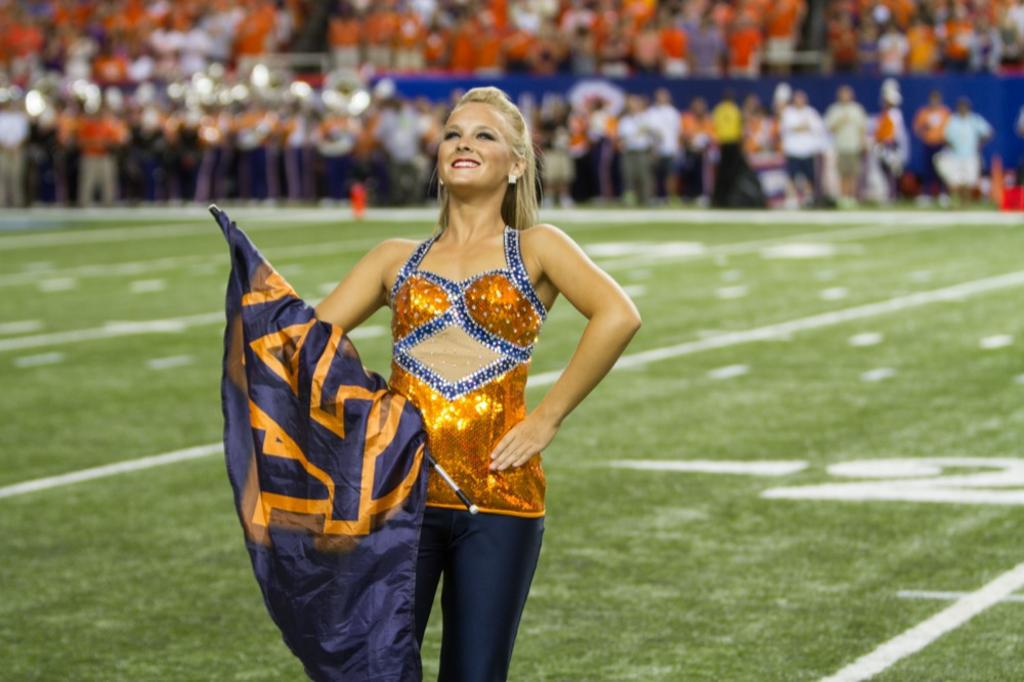face: (437, 107, 501, 183)
